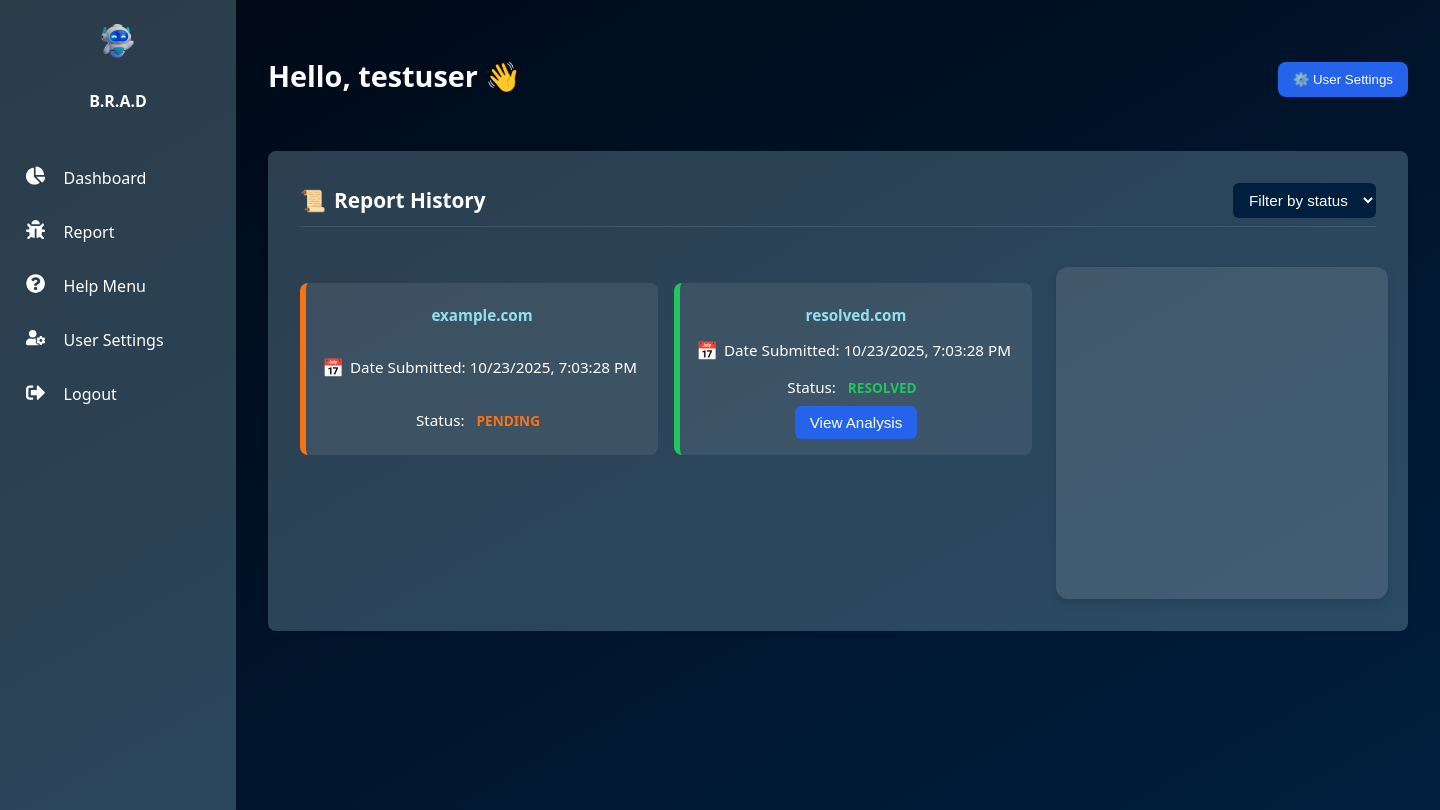
it: ReporterDashboard › opens and closes modal with analysis
Click the button "View Analysis". click: (856, 423)
box: [795, 406, 917, 439]
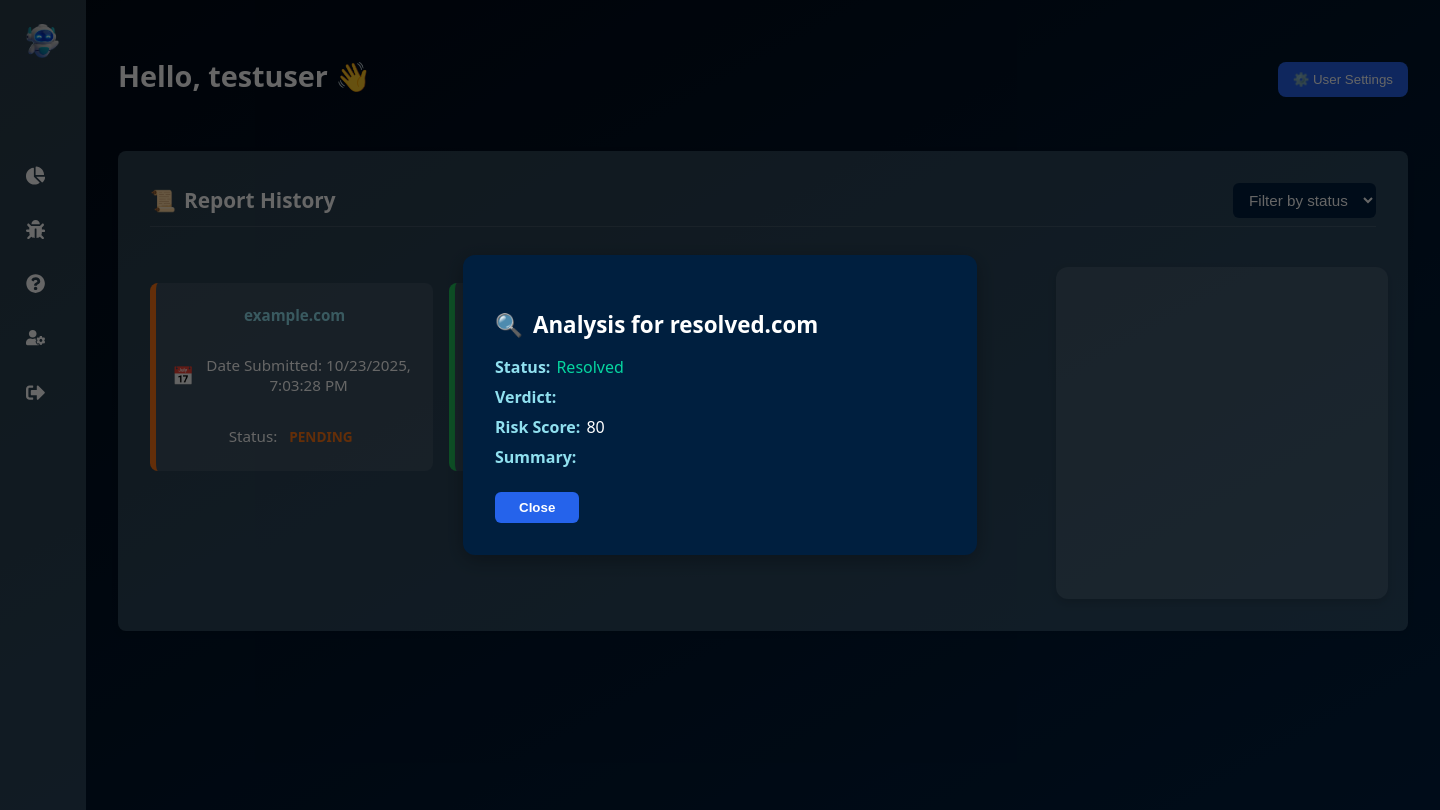
Check: the heading "Analysis for resolved.com" is shown, box [533, 309, 818, 340]
Click the button "Close". click: (537, 508)
box: [495, 492, 579, 523]
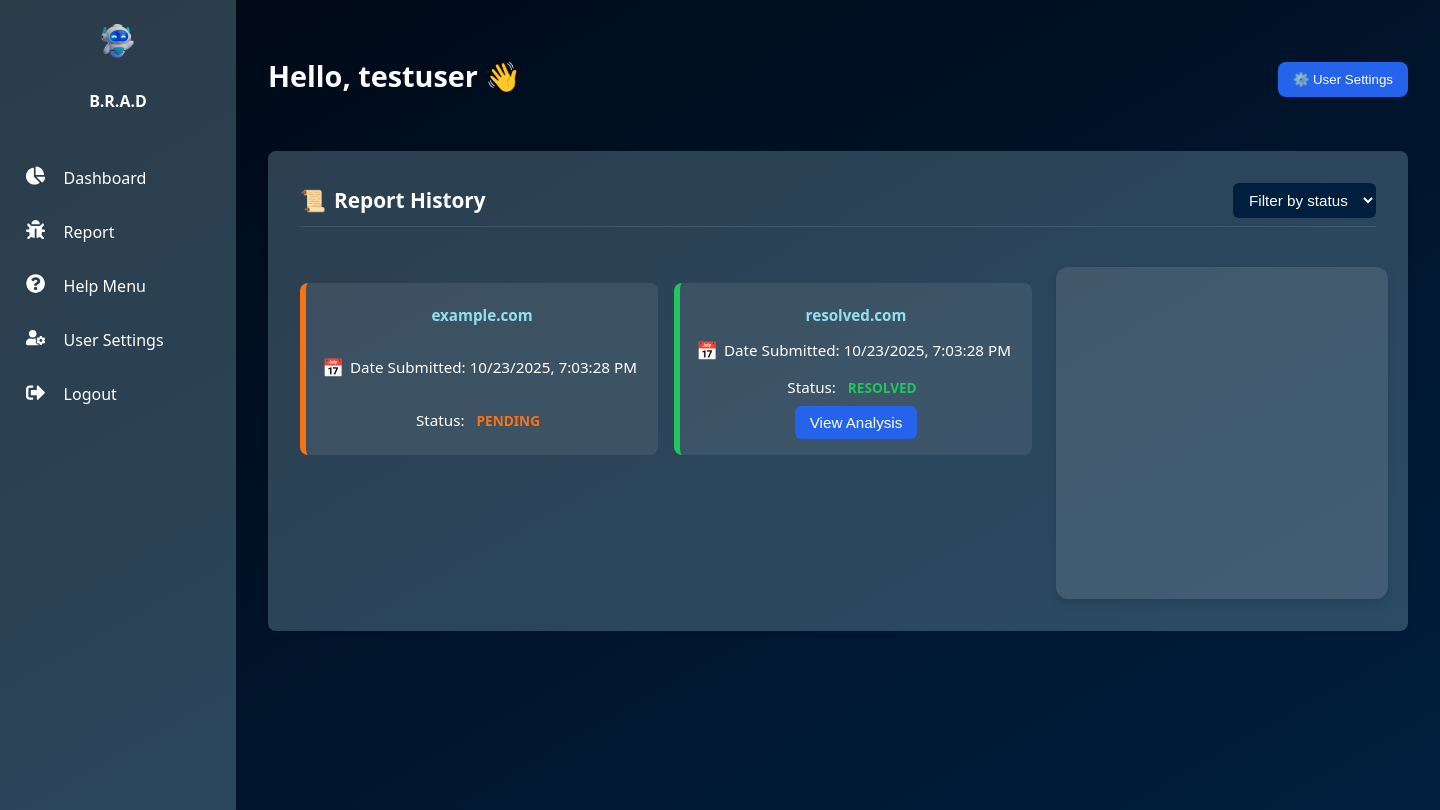
Check: the heading "Analysis for resolved.com" is gone
